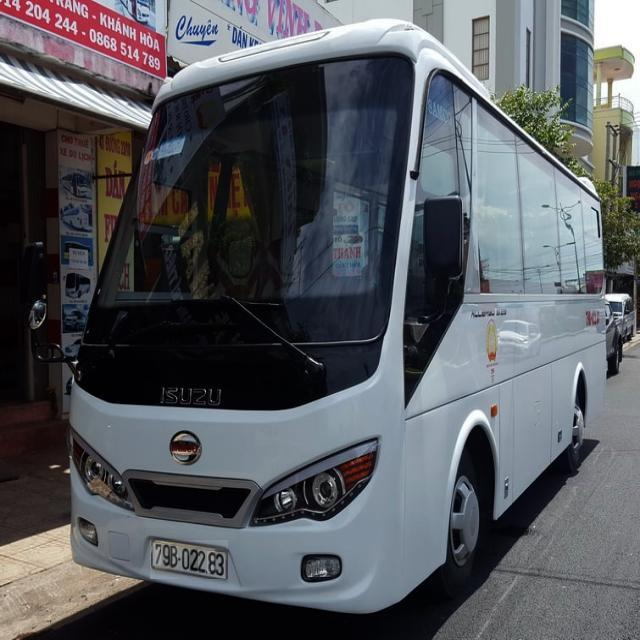car: (61, 15, 640, 619)
plate: (146, 535, 233, 586)
